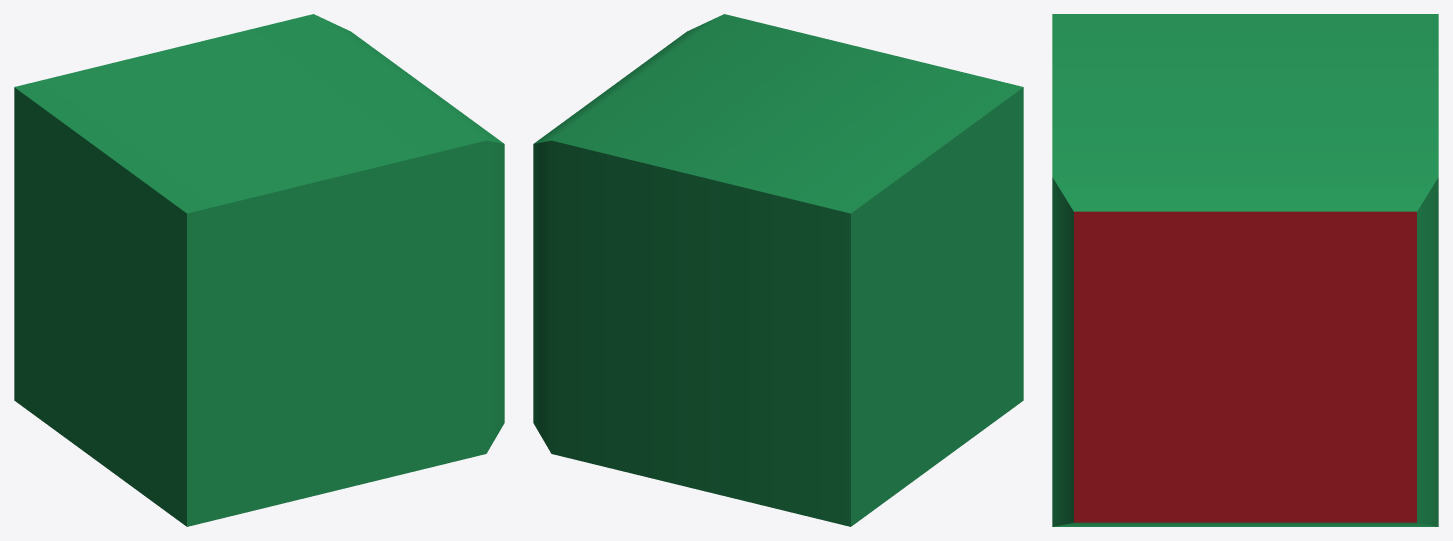
The model's file is puzzlecube_center_puzzlecube_N.glb.
3 renders of one model, left to right at view 1: azimuth 30°, elevation 25°; view 2: azimuth 150°, elevation 25°; view 3: azimuth 270°, elevation 25°, orthographic. The views are drawn at different scales.
Visible parts, largest first — view 1: puzzlecube_N; view 2: puzzlecube_N; view 3: puzzlecube_N.
Part boxes in pixels (x1,y1,x2,y2): puzzlecube_N: (14, 14, 504, 526); puzzlecube_N: (533, 14, 1023, 526); puzzlecube_N: (1052, 14, 1438, 526).
Bounding box in the file's own units: 0.1457 × 0.1333 × 0.1333.
Materials: 1 (1 with a texture image).
